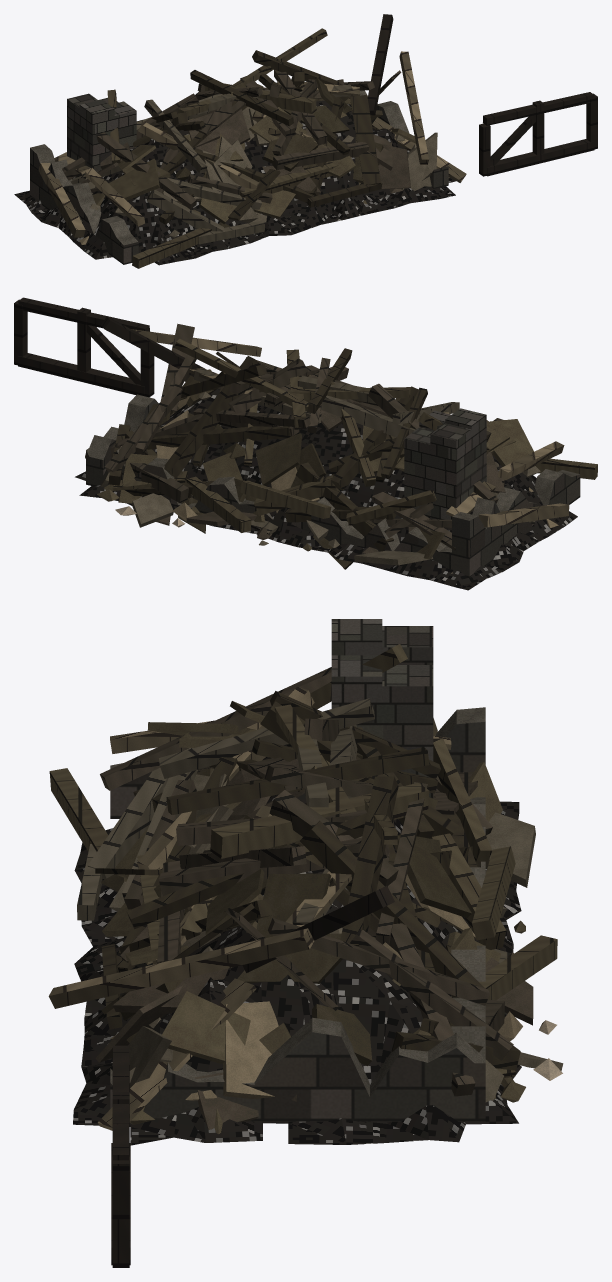
Rendered from AraHut02a.glb.
3 renders of one model, top to bottom at view 1: azimuth 30°, elevation 25°; view 2: azimuth 150°, elevation 25°; view 3: azimuth 270°, elevation 25°, orthographic. The views are drawn at different scales.
Parts seen in each view (by area): view 1: AraHut02a_swall; view 2: AraHut02a_swall; view 3: AraHut02a_swall.
Boxes of the visible parts, box(x1,y1,x2,y2) form: AraHut02a_swall: box(14, 14, 597, 268); AraHut02a_swall: box(14, 297, 597, 590); AraHut02a_swall: box(48, 619, 563, 1267).
Size of the model in its own units: 10.66 by 2.83 by 4.8.
16 materials, 16 textured.
